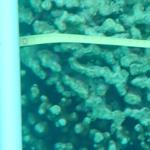dead: (13, 1, 145, 145)
